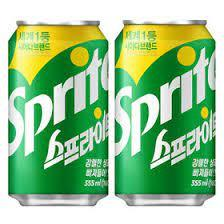sprite: (113, 15, 223, 214), (6, 15, 110, 212)
